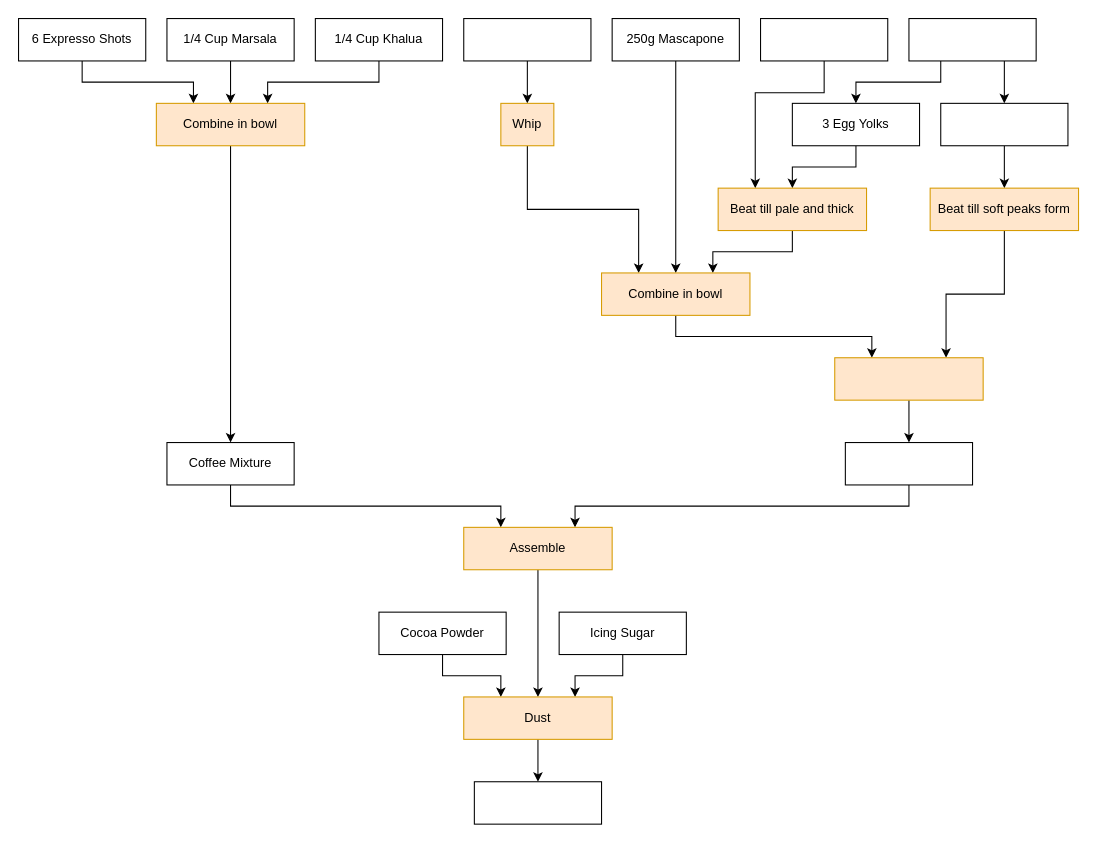
Some shapes in this 1097 by 843 pixel diagram are drawn without their labels. The shapes that lost their labels are listed below. From the top down, each one's centre as x and y in pixels, then its label:
(527,39): 300g Cream
(823,39): 1/3 Cups Sugar
(972,39): 3 Eggs
(1004,124): 3 Egg Whites
(908,378): Fold together
(908,463): Yummy goo
(537,802): 🫦 Tiramisu 🫦
